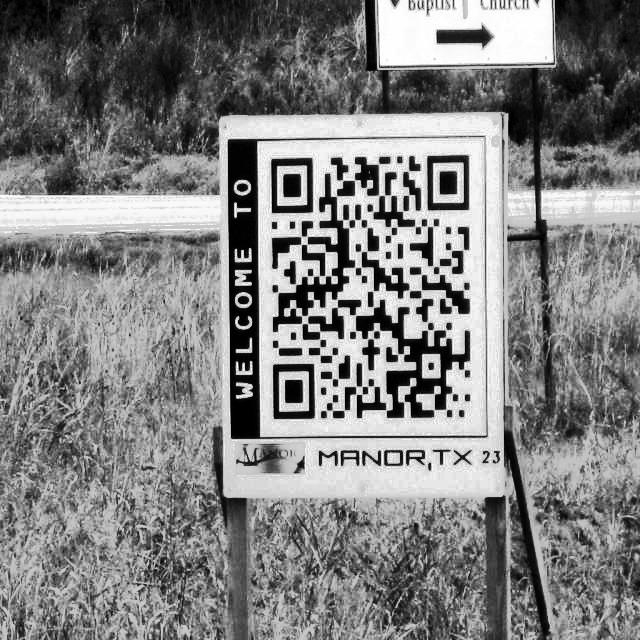qr_code: (271, 155, 470, 418)
